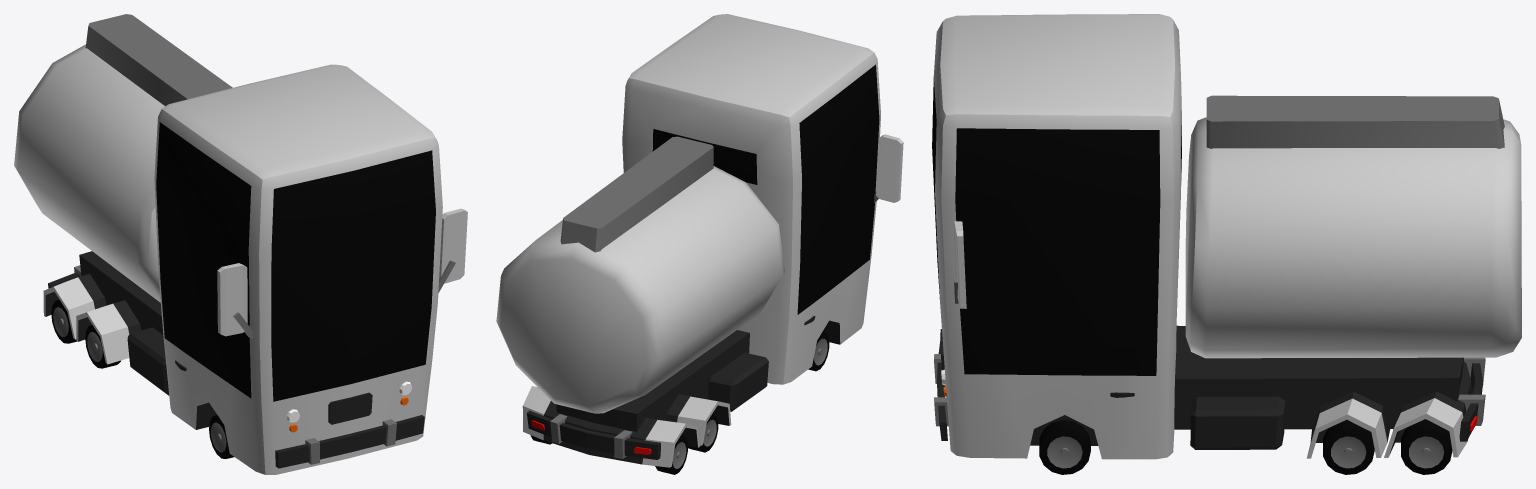
3 renders of one model, left to right at view 1: azimuth 30°, elevation 25°; view 2: azimuth 150°, elevation 25°; view 3: azimuth 270°, elevation 25°, orthographic. The views are drawn at different scales.
Parts seen in each view (by area): view 1: Cube, Cylinder.006, Cube.002, Cube.001, Cube.003, Cylinder.005, Cylinder.002, Cylinder.003; view 2: Cube, Cylinder.006, Cube.002, Cube.003, Cube.001, Cylinder.005, Cylinder.003, Cylinder.002; view 3: Cube, Cylinder.006, Cube.002, Cube.003, Cylinder, Cylinder.004, Cylinder.001, Cube.001.
Boxes of the visible parts, bbox=[...] form: Cube: bbox=[43, 64, 442, 474]; Cylinder.006: bbox=[14, 14, 232, 302]; Cube.002: bbox=[79, 251, 168, 395]; Cube.001: bbox=[217, 208, 467, 338]; Cube.003: bbox=[48, 265, 424, 468]; Cylinder.005: bbox=[51, 299, 77, 343]; Cylinder.002: bbox=[209, 415, 233, 458]; Cylinder.003: bbox=[85, 325, 120, 368]; Cube: bbox=[522, 14, 880, 467]; Cylinder.006: bbox=[496, 136, 784, 413]; Cube.002: bbox=[556, 330, 768, 431]; Cube.003: bbox=[527, 410, 660, 459]; Cube.001: bbox=[874, 134, 903, 202]; Cylinder.005: bbox=[655, 435, 687, 474]; Cylinder.003: bbox=[688, 413, 718, 452]; Cylinder.002: bbox=[808, 331, 829, 371]; Cube: bbox=[932, 14, 1472, 459]; Cylinder.006: bbox=[1185, 95, 1521, 358]; Cube.002: bbox=[1174, 325, 1463, 449]; Cube.003: bbox=[934, 341, 1485, 441]; Cylinder: bbox=[1039, 420, 1090, 474]; Cylinder.004: bbox=[1401, 419, 1452, 474]; Cylinder.001: bbox=[1323, 419, 1374, 474]; Cube.001: bbox=[953, 221, 966, 308].
Bounding box in the file's own units: 170 × 212 × 304.
1 material, 1 textured.
